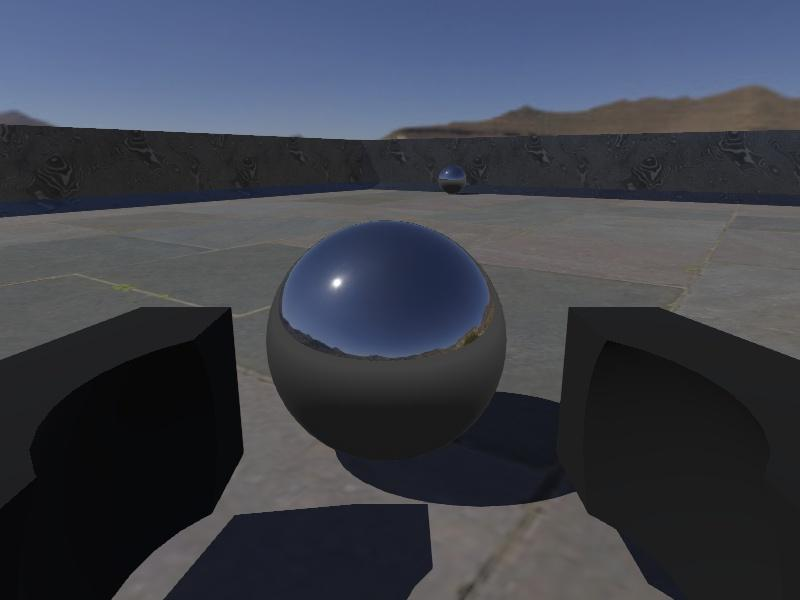steel ball: (265, 218, 508, 463), (437, 163, 467, 196)
